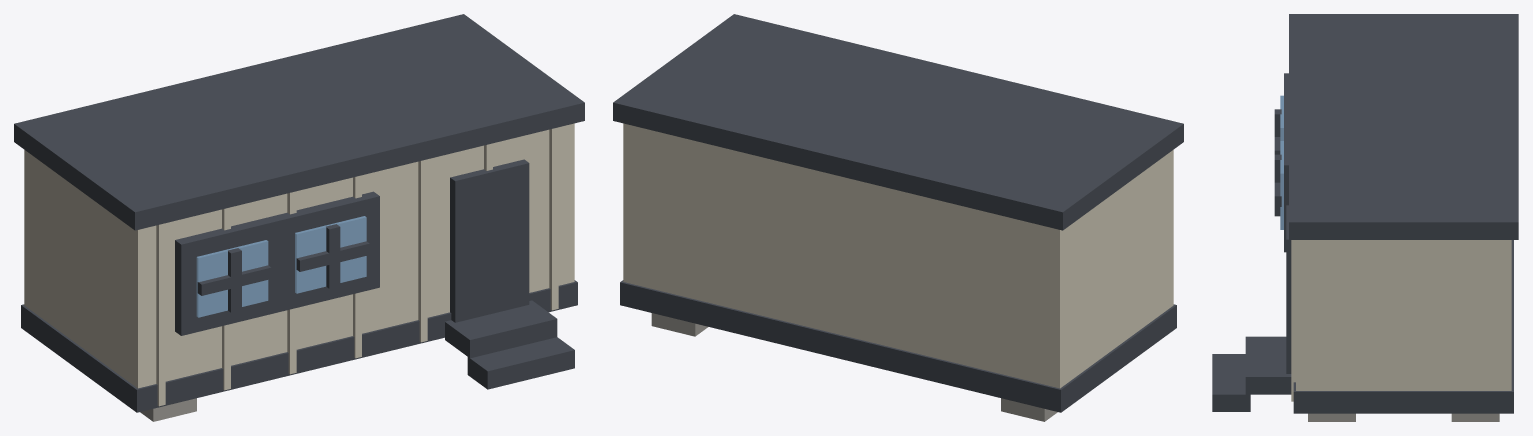
File: site-cabin.glb
3 views of the same model, side by side, from view 1: azimuth 30°, elevation 25°; view 2: azimuth 150°, elevation 25°; view 3: azimuth 270°, elevation 25° (orthographic). The views are drawn at different scales.
Visible parts, largest first — view 1: part-cabin-trim, part-cabin, part-glass, part-concrete; view 2: part-cabin, part-cabin-trim, part-concrete; view 3: part-cabin-trim, part-cabin, part-concrete, part-glass.
Boxes of the visible parts, <box> form: part-cabin-trim: <box>14,14,584,412</box>; part-cabin: <box>24,123,574,406</box>; part-glass: <box>196,216,366,317</box>; part-concrete: <box>140,398,196,421</box>; part-cabin: <box>623,123,1173,388</box>; part-cabin-trim: <box>613,14,1183,412</box>; part-concrete: <box>651,313,1057,421</box>; part-cabin-trim: <box>1212,14,1518,413</box>; part-cabin: <box>1291,240,1511,401</box>; part-concrete: <box>1308,413,1499,421</box>; part-glass: <box>1280,95,1283,229</box>.
Size of the model in its own units: 20.6 by 9.8 by 12.8.
